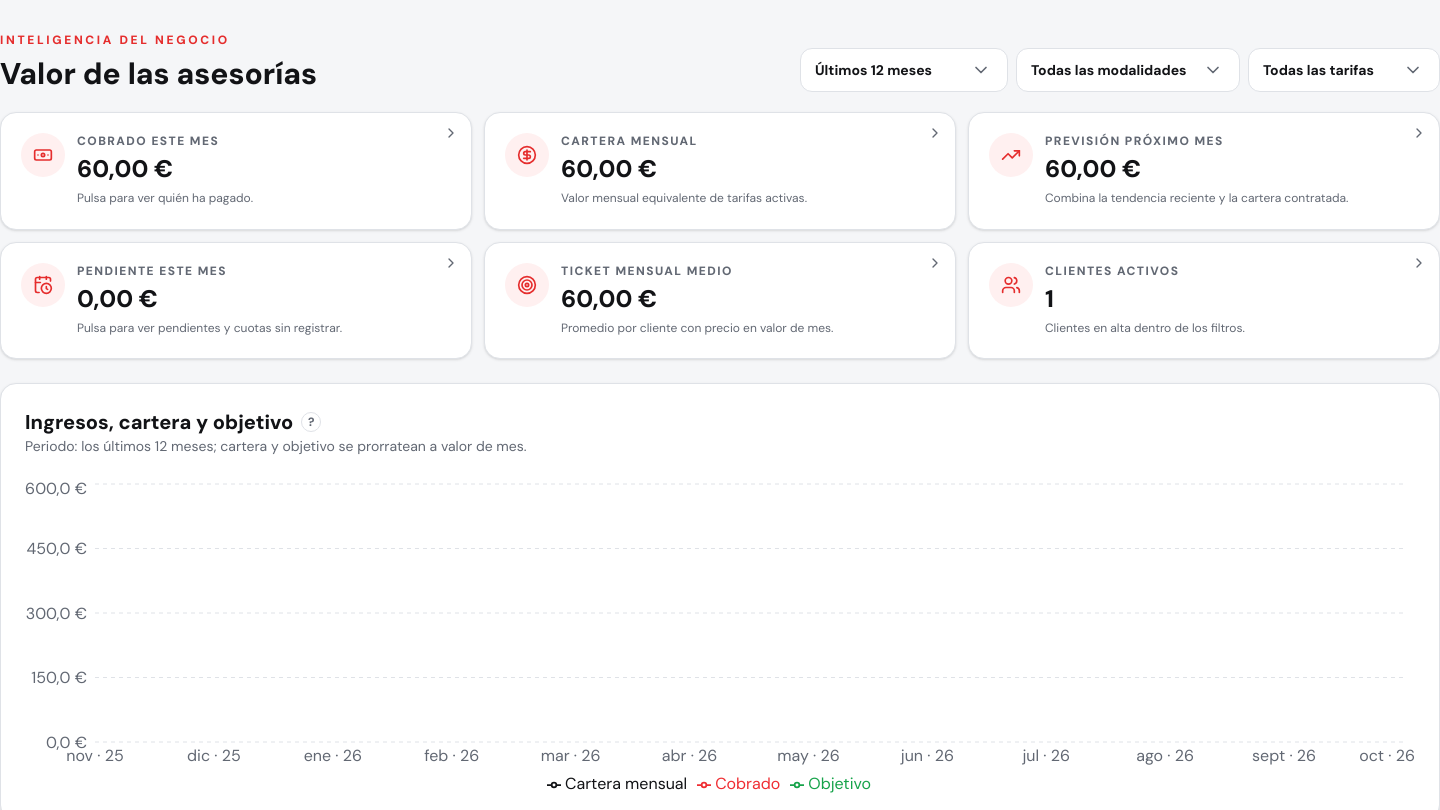
Scenario: DashboardAnalytics › abre el desglose filtrado de cobros y enlaza a la cuota
The width and height of the screenshot is (1440, 810).
Click the button "Cobrado este mes 60,00 € Pulsa para ver quién ha pagado.": click(43, 155) [0,112,472,230]
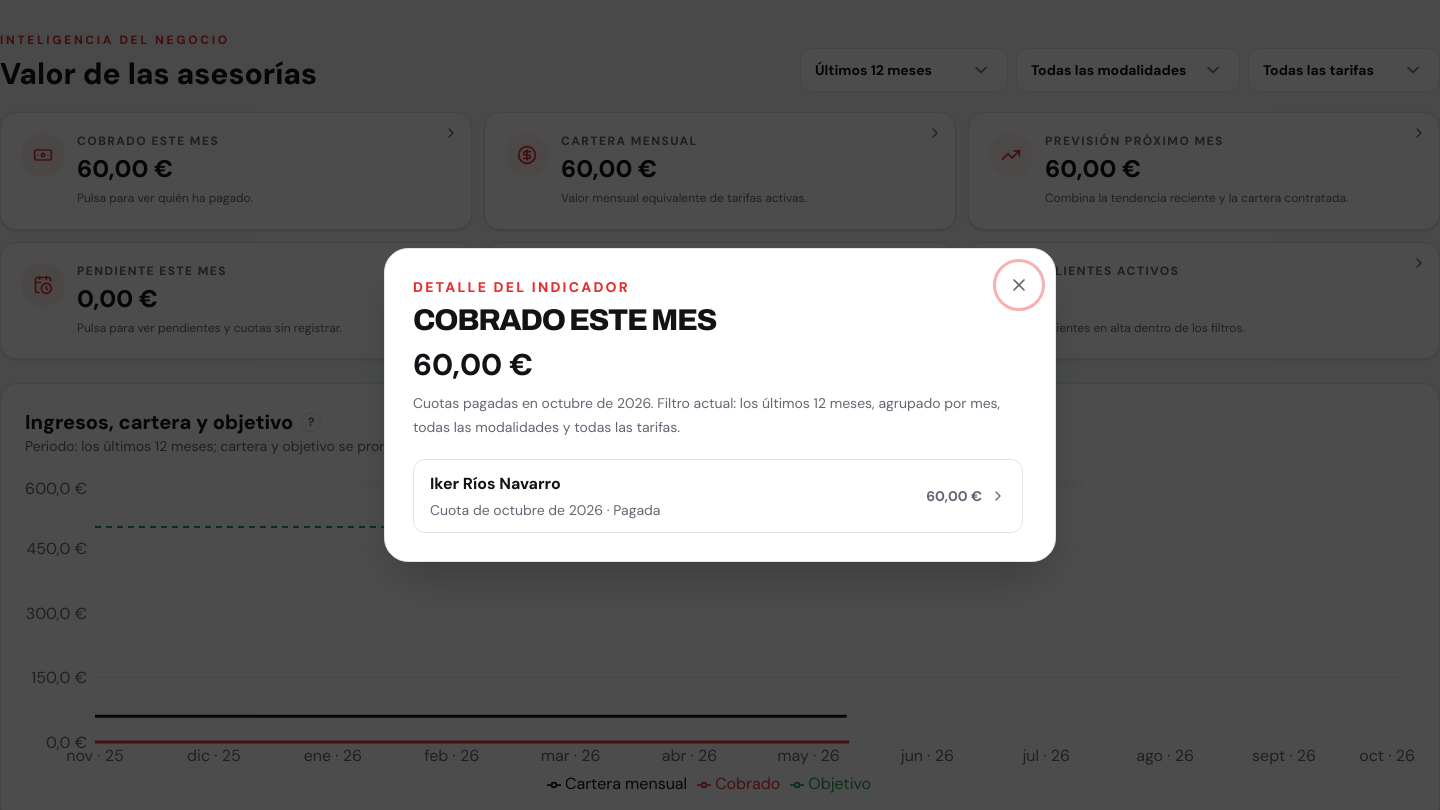
Expected: the dialog "Cobrado este mes" is shown, [384,248,1056,562]
Expected: the text "todas las modalidades y todas las tarifas" is shown, [413,394,1000,436]
